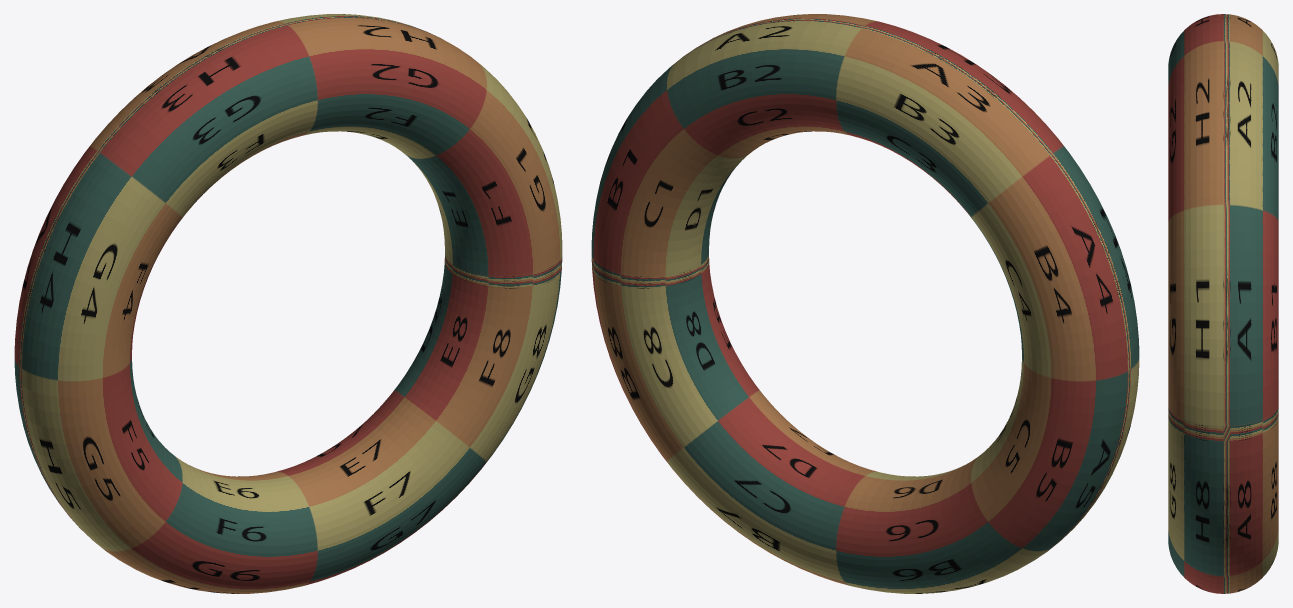
File: texture_torus_R1_r1.glb
3 renders of one model, left to right at view 1: azimuth 30°, elevation 25°; view 2: azimuth 150°, elevation 25°; view 3: azimuth 270°, elevation 25°, orthographic. The views are drawn at different scales.
Parts seen in each view (by area): view 1: world; view 2: world; view 3: world.
Part boxes in pixels (x1=…): world: x1=14, y1=14, x2=562, y2=593; world: x1=591, y1=14, x2=1139, y2=593; world: x1=1168, y1=14, x2=1278, y2=593.
Size of the model in its own units: 15.11 by 15.11 by 2.88.
Materials: 1 (1 with a texture image).
